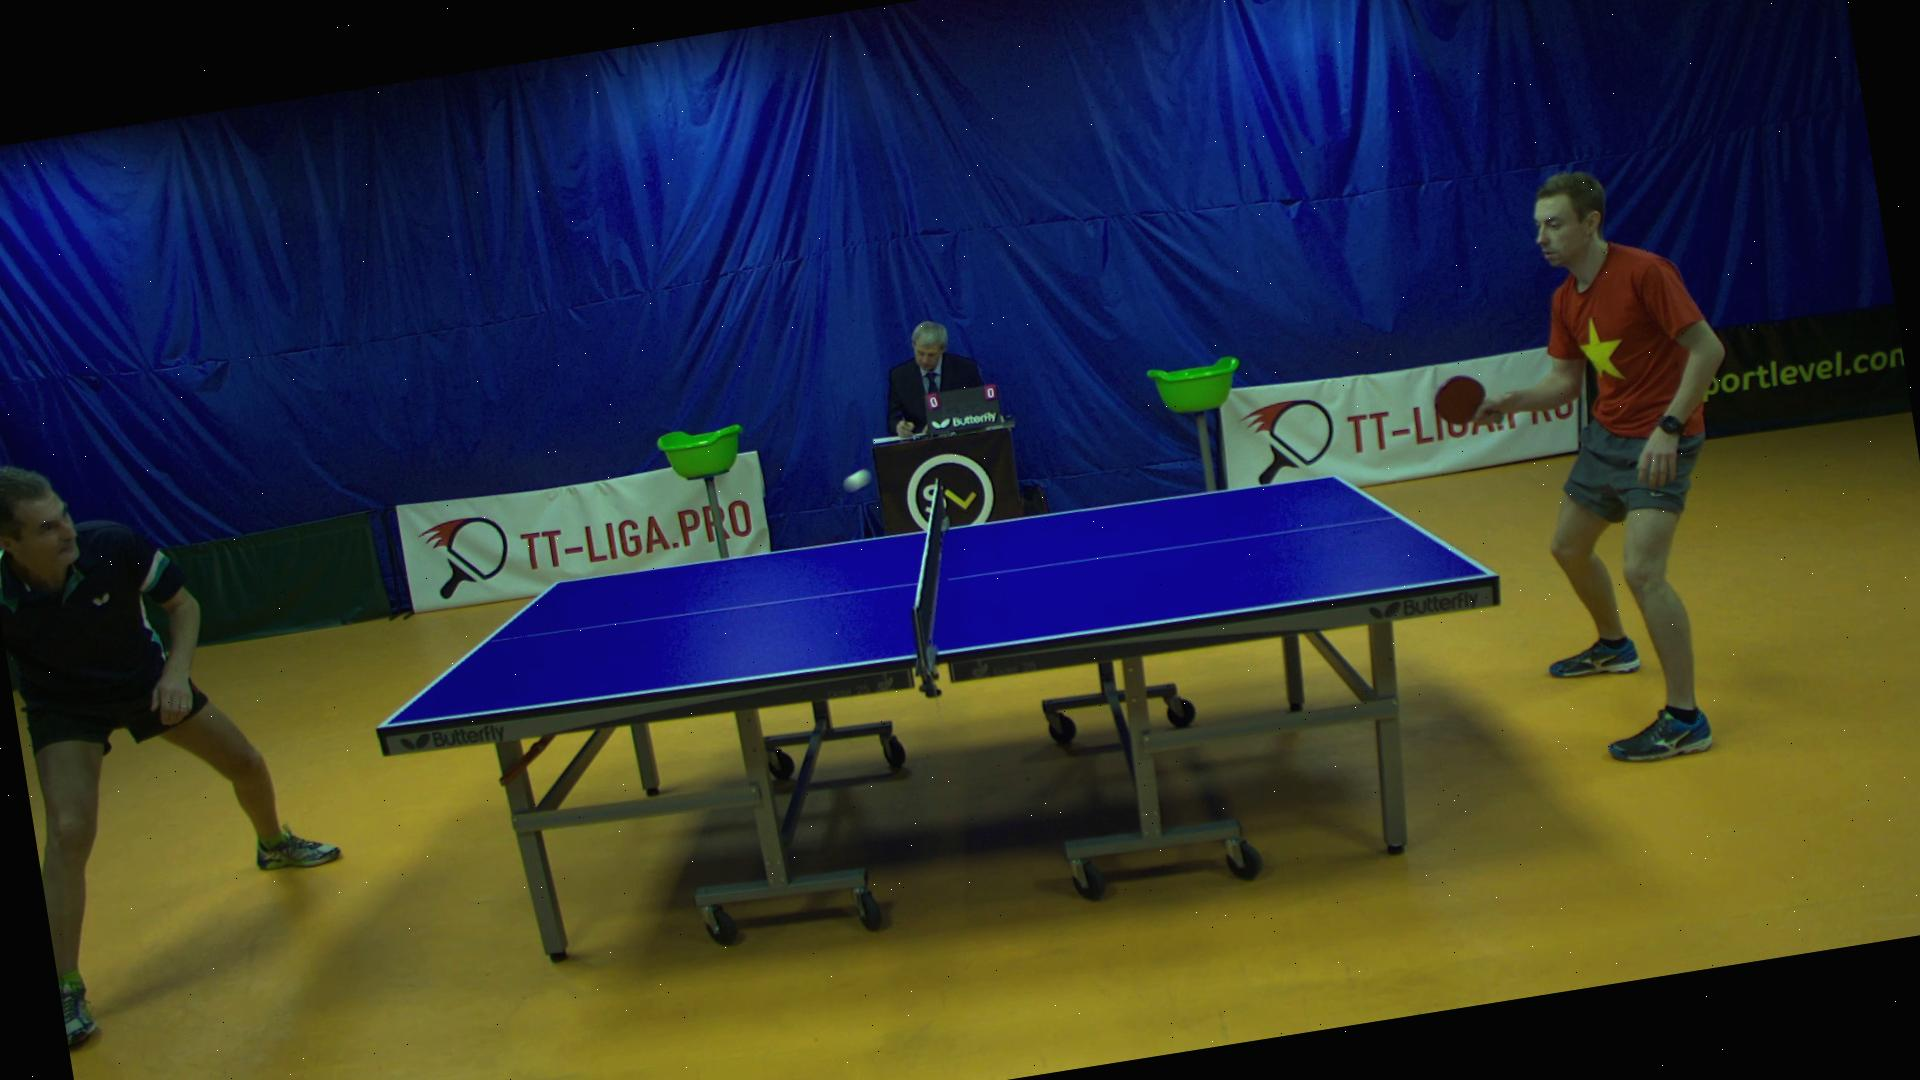ball: (835, 462, 878, 498)
